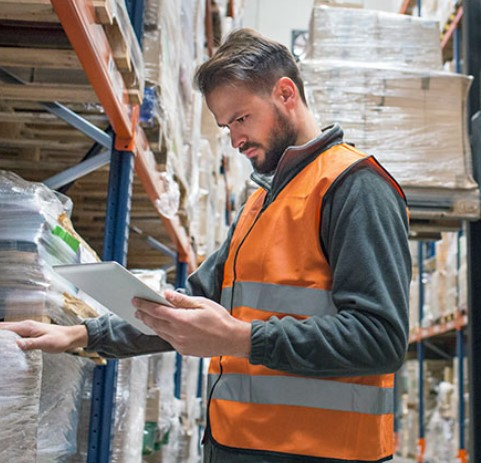worker: (188, 52, 398, 461)
